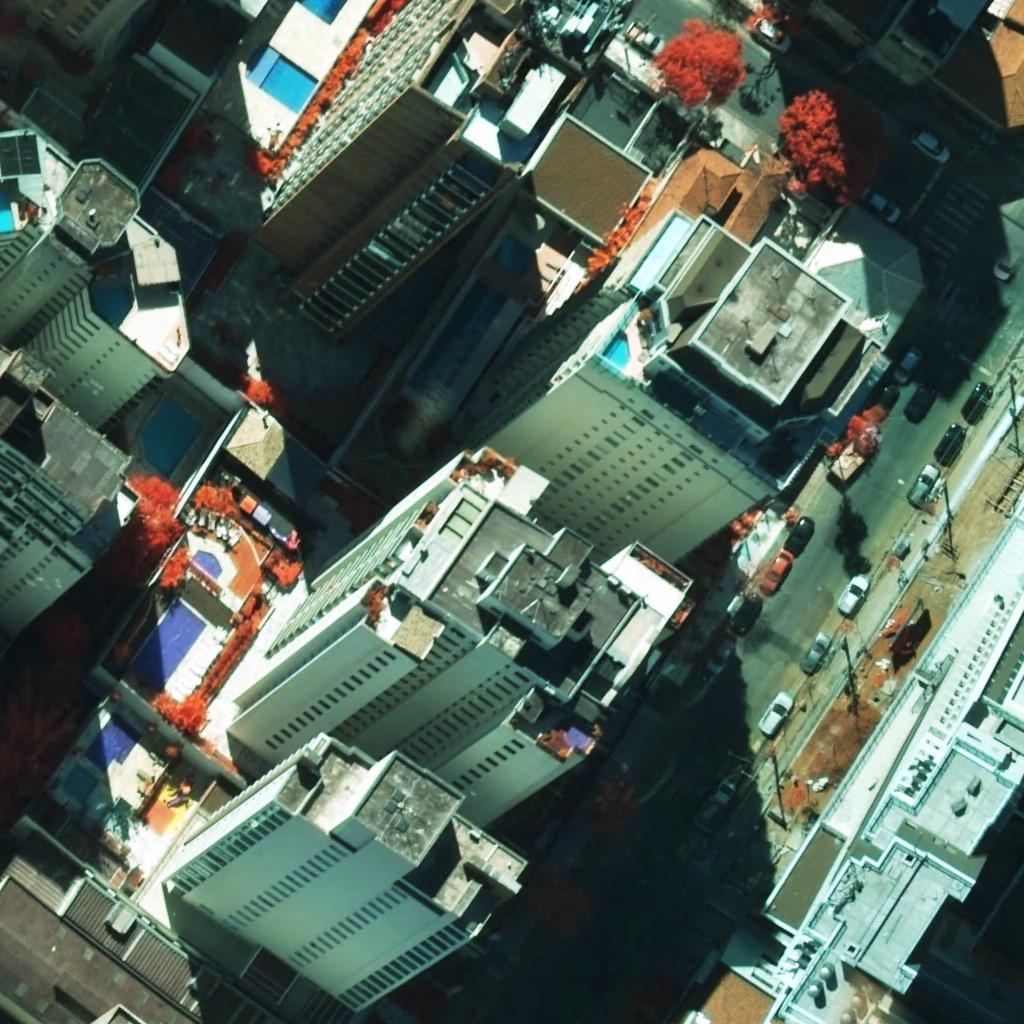pool: (131, 599, 204, 690), (142, 397, 204, 479), (247, 45, 318, 113), (84, 712, 142, 772), (602, 329, 630, 370), (192, 551, 223, 580)
